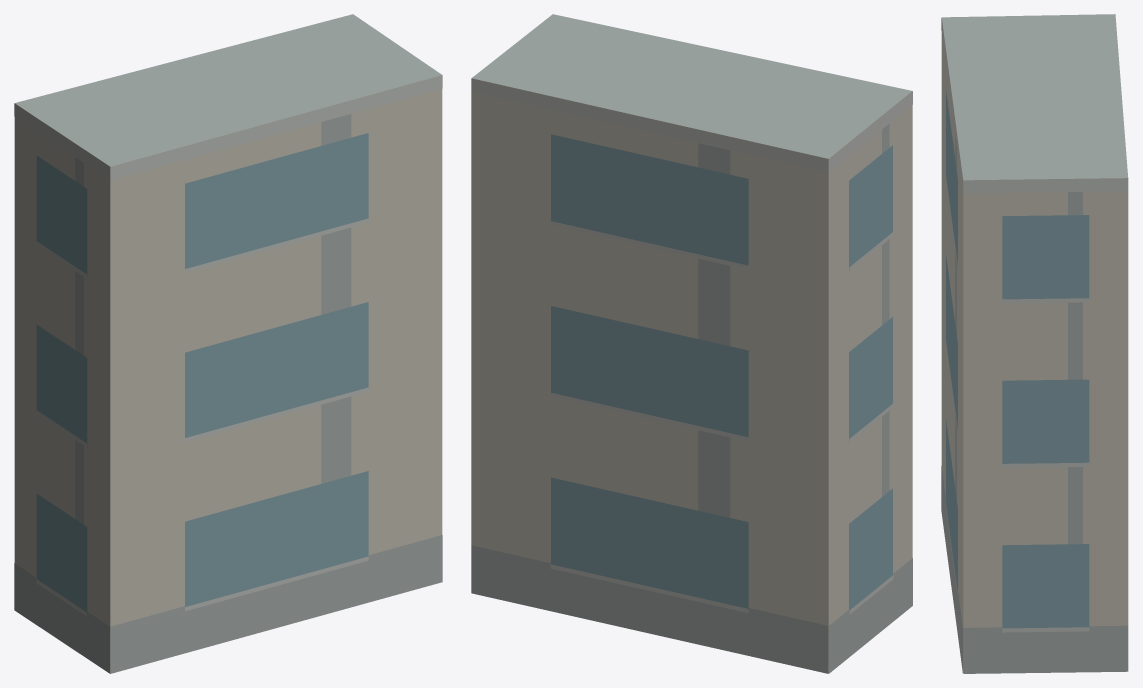
File: survey-upis-32961183.glb
3 views of the same model, side by side, from view 1: azimuth 30°, elevation 25°; view 2: azimuth 150°, elevation 25°; view 3: azimuth 270°, elevation 25° (orthographic). The views are drawn at different scales.
Visible parts, largest first — view 1: survey-upis-32961183.tmp; view 2: survey-upis-32961183.tmp; view 3: survey-upis-32961183.tmp.
Boxes of the visible parts, bbox=[...] form: survey-upis-32961183.tmp: bbox=[14, 14, 442, 673]; survey-upis-32961183.tmp: bbox=[471, 14, 912, 673]; survey-upis-32961183.tmp: bbox=[941, 14, 1128, 673].
Size of the model in its own units: 6.62 by 9.15 by 3.15.
